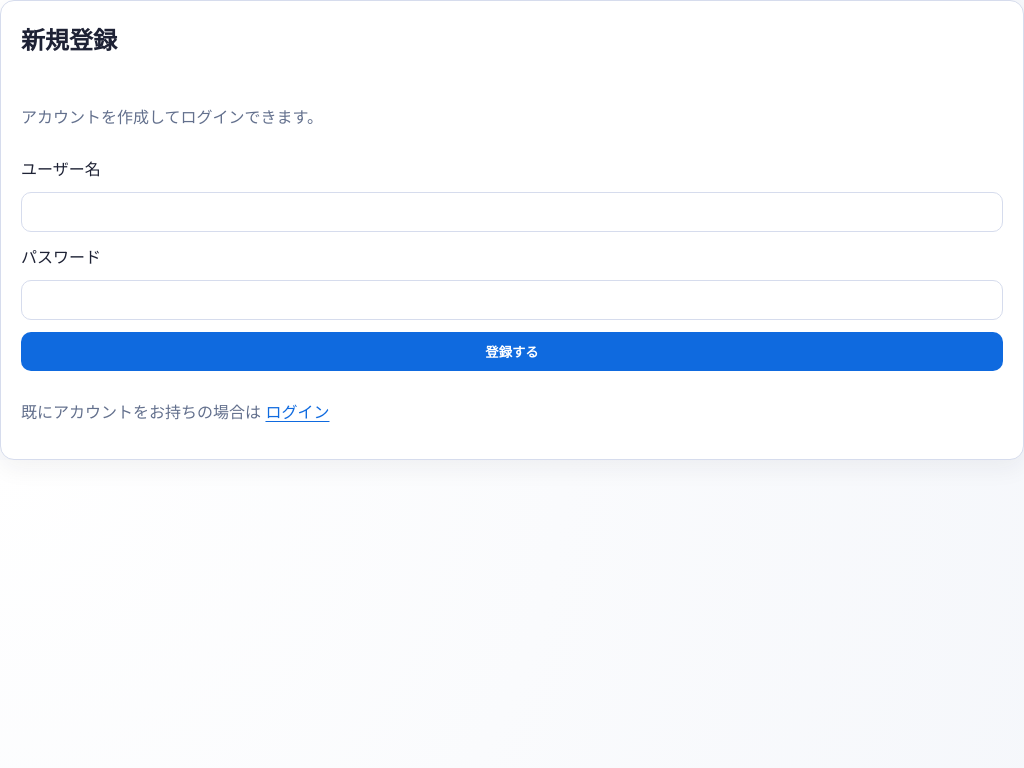
Test: RegisterForm › 重複ユーザー名の場合はエラーメッセージを表示する
Type "new-user" into the field labelled "ユーザー名" at [512, 212], box [21,192,1003,232]
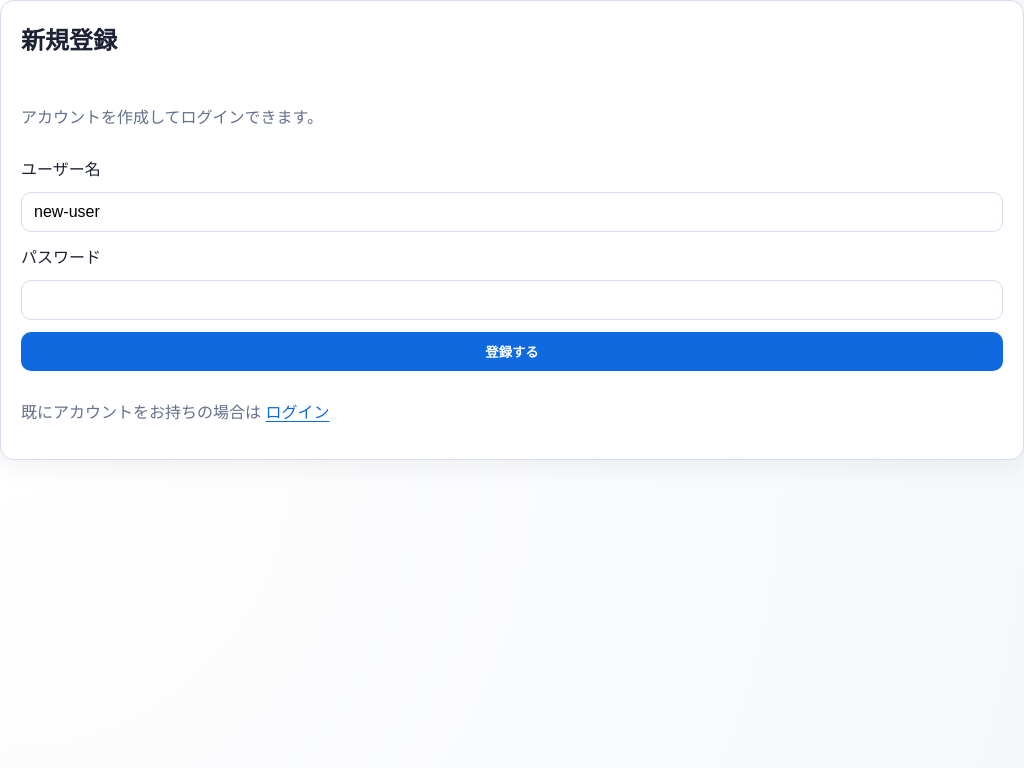
Type "new-pass" into the password field labelled "パスワード" at [512, 300], box [21,280,1003,320]
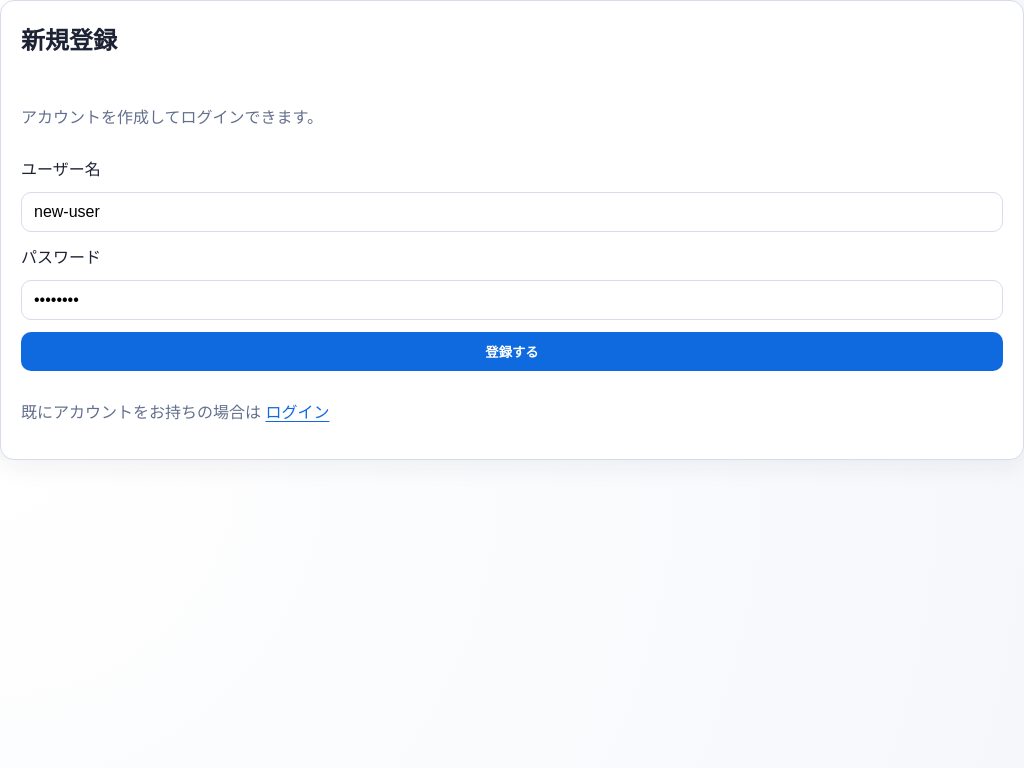
Click the button "登録する" at [512, 351], box [21,332,1003,371]
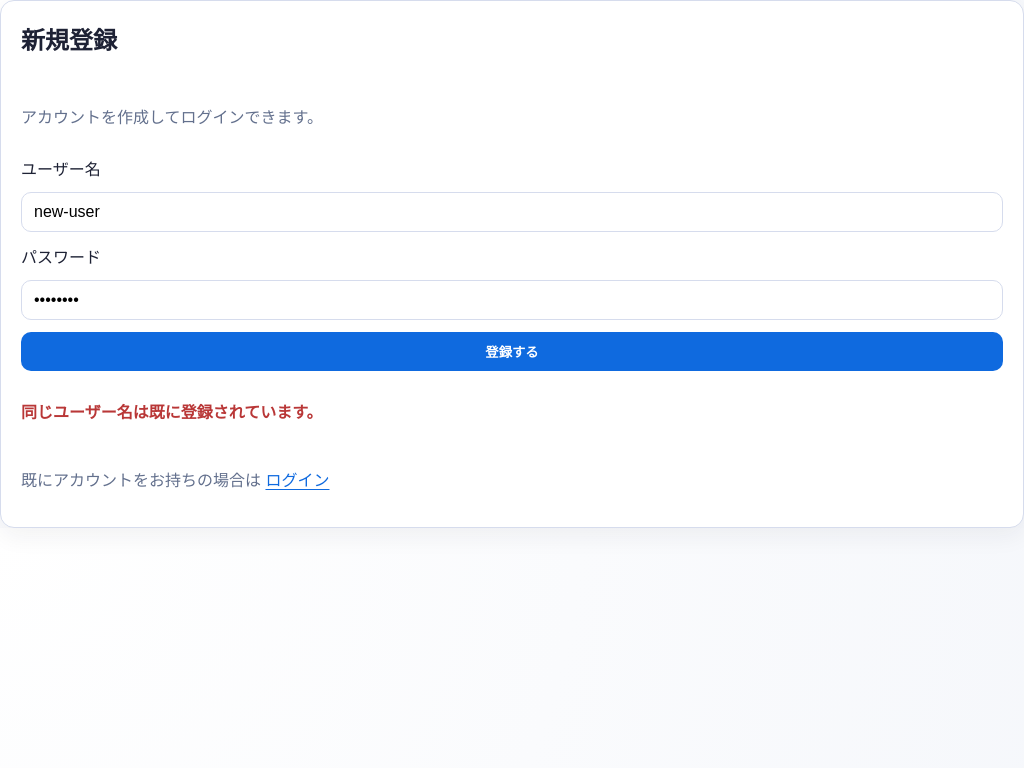
Check: the text "同じユーザー名は既に登録されています。" is shown, box [21,404,323,421]
